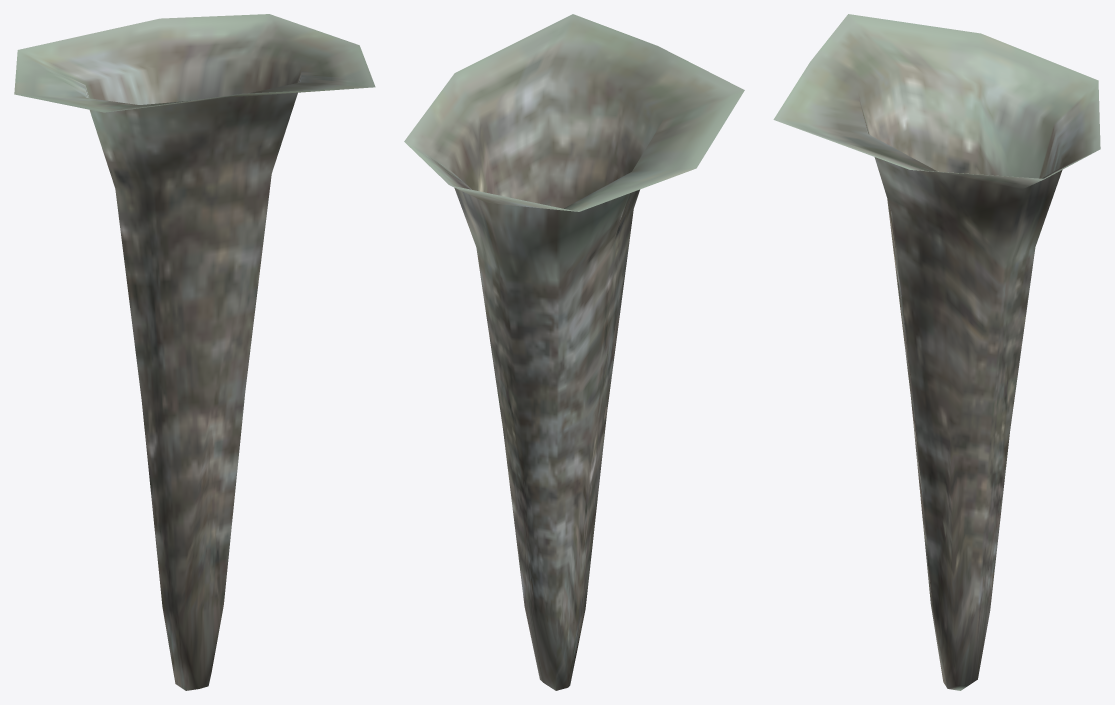
File: TROLLHOLE02_PS-MAINSTALAG13.fbx
3 views of the same model, side by side, from view 1: azimuth 30°, elevation 25°; view 2: azimuth 150°, elevation 25°; view 3: azimuth 270°, elevation 25° (orthographic). The views are drawn at different scales.
Parts seen in each view (by area): view 1: TROLLHOLE02_PS-MAINSTALAG13; view 2: TROLLHOLE02_PS-MAINSTALAG13; view 3: TROLLHOLE02_PS-MAINSTALAG13.
Part boxes in pixels (x1,y1,x2,y2): TROLLHOLE02_PS-MAINSTALAG13: (14,14,375,690); TROLLHOLE02_PS-MAINSTALAG13: (404,14,744,690); TROLLHOLE02_PS-MAINSTALAG13: (773,14,1100,690).
Size of the model in its own units: 19087 by 39404 by 19022.
Materials: 1 (1 with a texture image).
